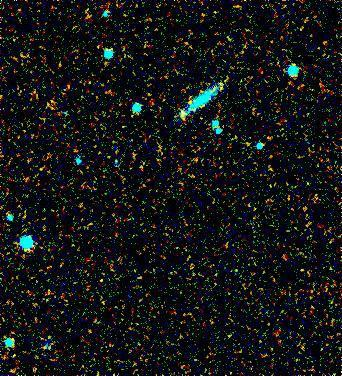star: (166, 101, 196, 131)
